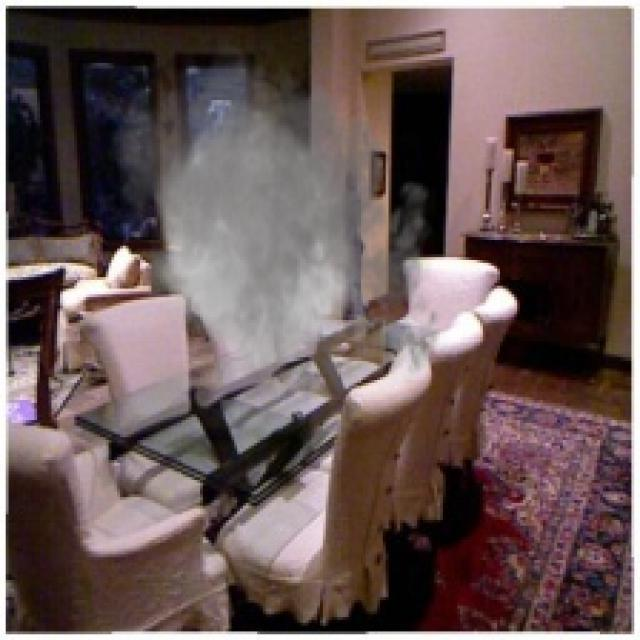Smoke: (102, 31, 452, 443)
